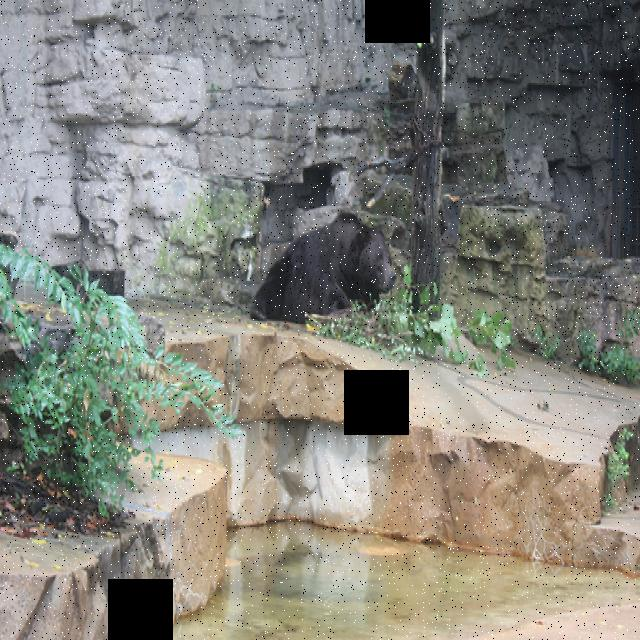Bear: (246, 204, 397, 323)
